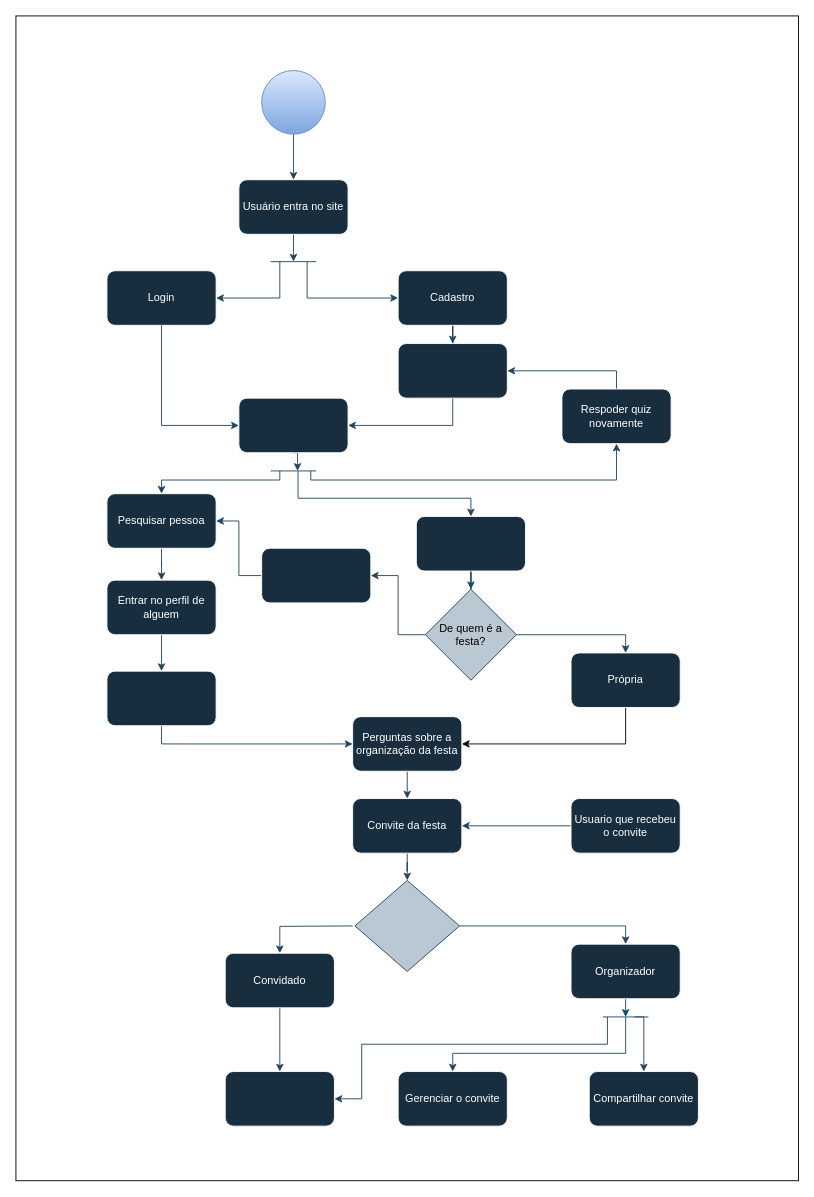
The diagram is 814 pixels wide and 1197 high, and some of its shapes have lost their labels. Here are the shapes that lost their labels. From the top down, the centre of each, then its label:
[452,370]: Quiz
[293,425]: Perfil de Usuário
[470,543]: Organizar uma festa
[316,575]: Outra pessoa
[161,698]: Organizar festa para essa pessoa
[407,925]: Quem está acessando o convite?
[279,1098]: Visualiza informações do convite
